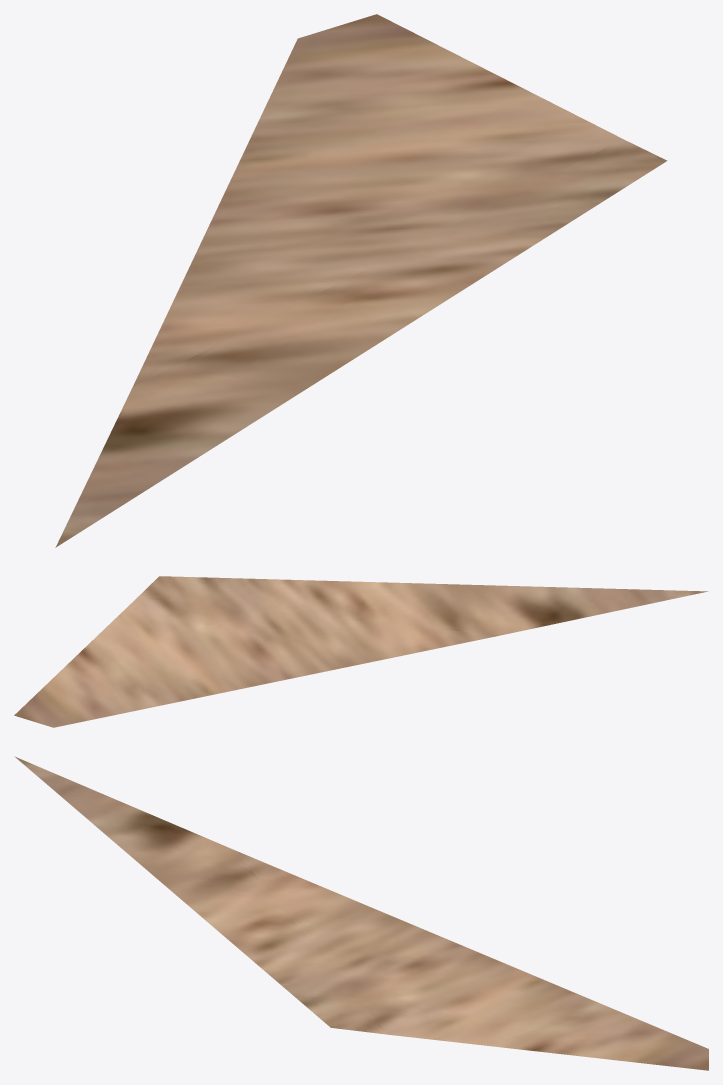
3 renders of one model, top to bottom at view 1: azimuth 30°, elevation 25°; view 2: azimuth 150°, elevation 25°; view 3: azimuth 270°, elevation 25°, orthographic. The views are drawn at different scales.
Size of the model in its own units: 1.09 by 0.0868 by 1.18.
Materials: 1 (1 with a texture image).
